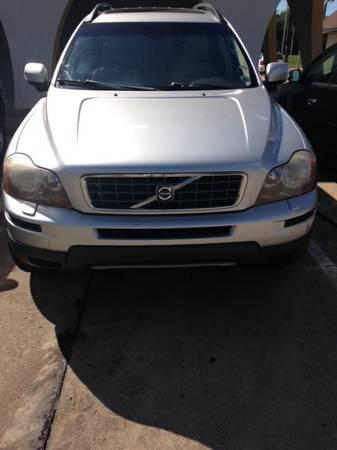volvo: (1, 1, 332, 300)
